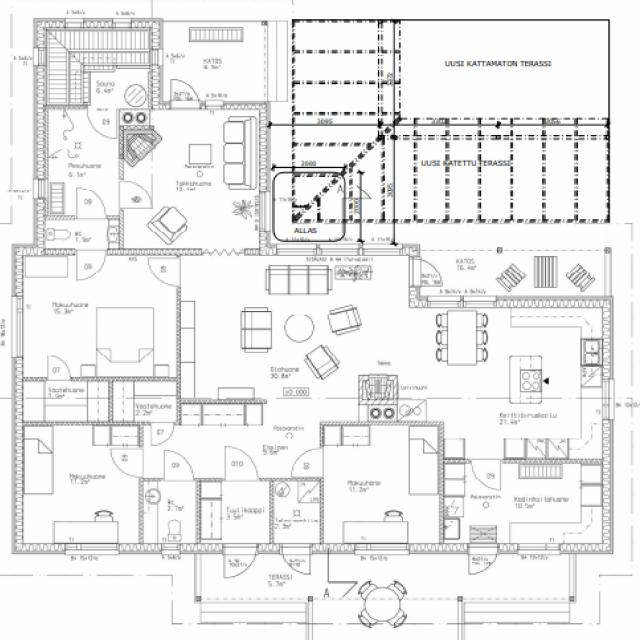door: (224, 543, 256, 586), (468, 543, 498, 583), (225, 446, 257, 481), (408, 259, 448, 286), (282, 543, 310, 581), (108, 448, 144, 477), (289, 446, 323, 476), (171, 73, 199, 109), (471, 459, 500, 492), (77, 248, 105, 282), (88, 105, 117, 137), (77, 188, 106, 220), (164, 449, 193, 481), (147, 258, 180, 286), (119, 180, 151, 208), (151, 421, 174, 448), (48, 356, 70, 381)
